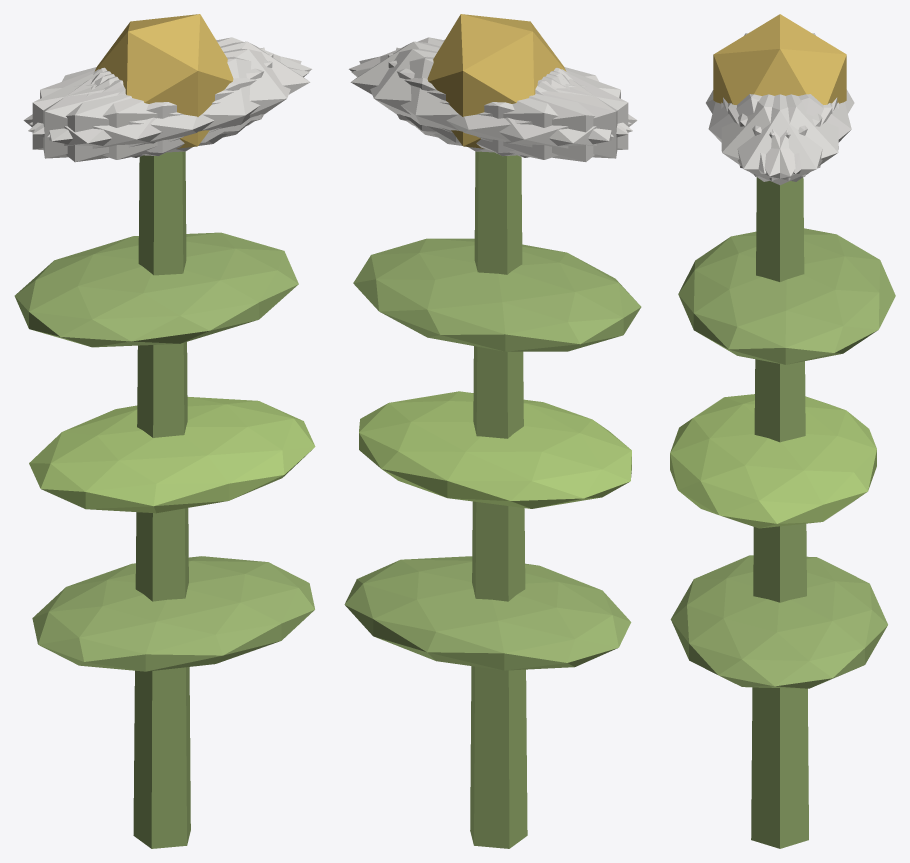
Rendered from ludwigia-palustris.glb.
3 renders of one model, left to right at view 1: azimuth 30°, elevation 25°; view 2: azimuth 150°, elevation 25°; view 3: azimuth 270°, elevation 25°, orthographic.
Visible parts, largest first — view 1: stem, leaf1, leaf2, leaf0, center, petal1, petal6, petal2, petal5, petal7, petal0, petal4 (+2 smaller); view 2: stem, leaf2, leaf0, leaf1, center, petal8, petal3, petal7, petal4, petal2, petal0, petal5 (+2 smaller); view 3: stem, leaf2, leaf0, leaf1, center, petal0, petal5, petal4, petal1, petal8.
Part boxes in pixels (x1=…): stem: x1=133, y1=151, x2=190, y2=848; leaf1: x1=29, y1=397, x2=315, y2=513; leaf2: x1=14, y1=232, x2=298, y2=347; leaf0: x1=32, y1=556, x2=314, y2=671; center: x1=94, y1=14, x2=233, y2=148; petal1: x1=28, y1=56, x2=309, y2=159; petal6: x1=23, y1=69, x2=227, y2=162; petal2: x1=43, y1=47, x2=264, y2=158; petal5: x1=47, y1=48, x2=301, y2=152; petal7: x1=32, y1=53, x2=273, y2=156; petal0: x1=94, y1=41, x2=310, y2=142; petal4: x1=29, y1=37, x2=311, y2=134; stem: x1=470, y1=151, x2=527, y2=848; leaf2: x1=353, y1=238, x2=641, y2=351; leaf0: x1=344, y1=556, x2=631, y2=670; leaf1: x1=359, y1=391, x2=631, y2=508; center: x1=427, y1=14, x2=566, y2=148; petal8: x1=351, y1=56, x2=632, y2=159; petal3: x1=433, y1=69, x2=637, y2=161; petal7: x1=396, y1=47, x2=617, y2=158; petal4: x1=359, y1=48, x2=613, y2=152; petal2: x1=388, y1=53, x2=628, y2=156; petal0: x1=350, y1=41, x2=566, y2=142; petal5: x1=349, y1=37, x2=631, y2=134; stem: x1=751, y1=177, x2=808, y2=848; leaf2: x1=678, y1=228, x2=895, y2=364; leaf0: x1=670, y1=555, x2=887, y2=688; leaf1: x1=670, y1=394, x2=876, y2=528; center: x1=713, y1=14, x2=846, y2=104; petal0: x1=723, y1=94, x2=837, y2=185; petal5: x1=721, y1=94, x2=832, y2=181; petal4: x1=728, y1=94, x2=838, y2=181; petal1: x1=708, y1=94, x2=822, y2=173; petal8: x1=738, y1=94, x2=851, y2=173.
Bounding box in the file's own units: 0.1452 × 0.4078 × 0.1037.
